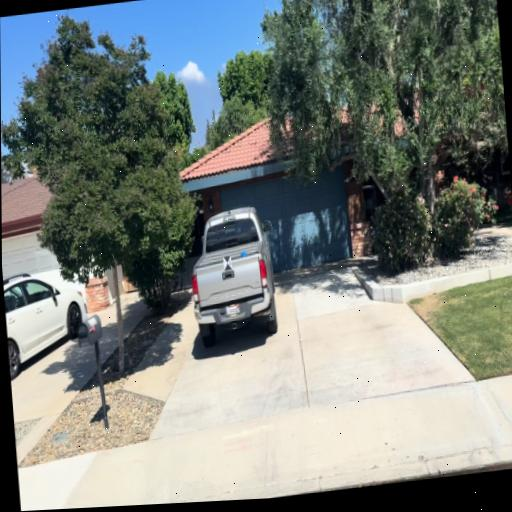target1: (223, 255, 232, 271)
